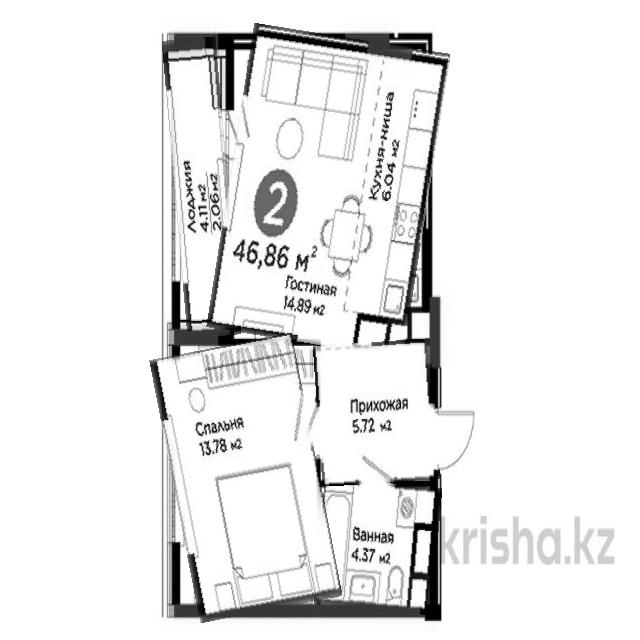balcony: (169, 37, 235, 338)
bathroom: (316, 481, 440, 613)
hallway: (316, 340, 438, 485)
living_room: (161, 338, 330, 618)
studio: (218, 30, 439, 352)
